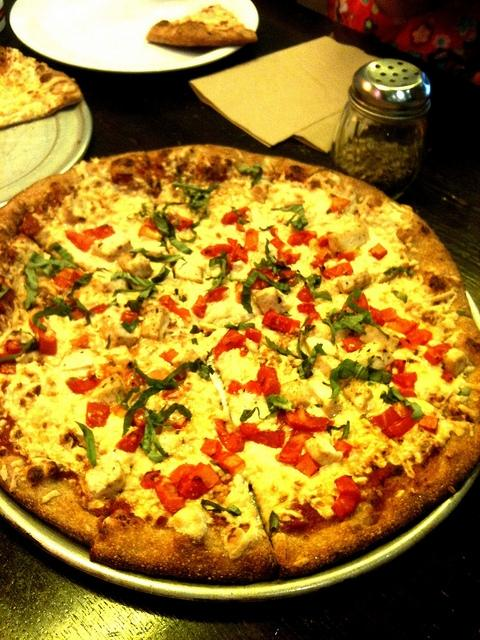tomato: (178, 462, 222, 503), (200, 438, 246, 477), (368, 406, 415, 438), (115, 408, 146, 452), (332, 475, 362, 520), (236, 422, 286, 448), (211, 328, 249, 362), (282, 408, 334, 432), (154, 475, 186, 514), (277, 433, 312, 467), (261, 308, 301, 337), (214, 418, 244, 452), (66, 370, 102, 396), (270, 237, 302, 266), (200, 243, 234, 270), (158, 294, 192, 320), (257, 363, 280, 398), (85, 402, 112, 428), (168, 462, 195, 488), (386, 316, 420, 336), (423, 343, 452, 366), (65, 230, 95, 252), (52, 268, 84, 288), (320, 262, 354, 280), (295, 452, 319, 477), (82, 224, 115, 242), (221, 206, 251, 225), (286, 230, 316, 248), (250, 268, 274, 290), (28, 318, 56, 336), (203, 286, 229, 304), (372, 308, 397, 326), (390, 372, 418, 388), (406, 328, 432, 345), (418, 415, 439, 435), (38, 333, 57, 355), (191, 294, 208, 318), (342, 337, 366, 353), (242, 228, 258, 252), (333, 438, 352, 458), (231, 243, 249, 264), (329, 194, 350, 212), (69, 334, 91, 351), (241, 380, 262, 397), (175, 213, 194, 231), (368, 243, 388, 260), (160, 348, 180, 364), (384, 359, 405, 374), (296, 285, 314, 302), (4, 339, 23, 355), (296, 302, 316, 316), (318, 231, 333, 249), (119, 310, 138, 324), (245, 328, 262, 343), (71, 307, 87, 321), (282, 270, 296, 286), (90, 303, 110, 314), (358, 292, 369, 310), (142, 218, 158, 230), (337, 251, 355, 261), (228, 380, 240, 395), (174, 370, 186, 382)
